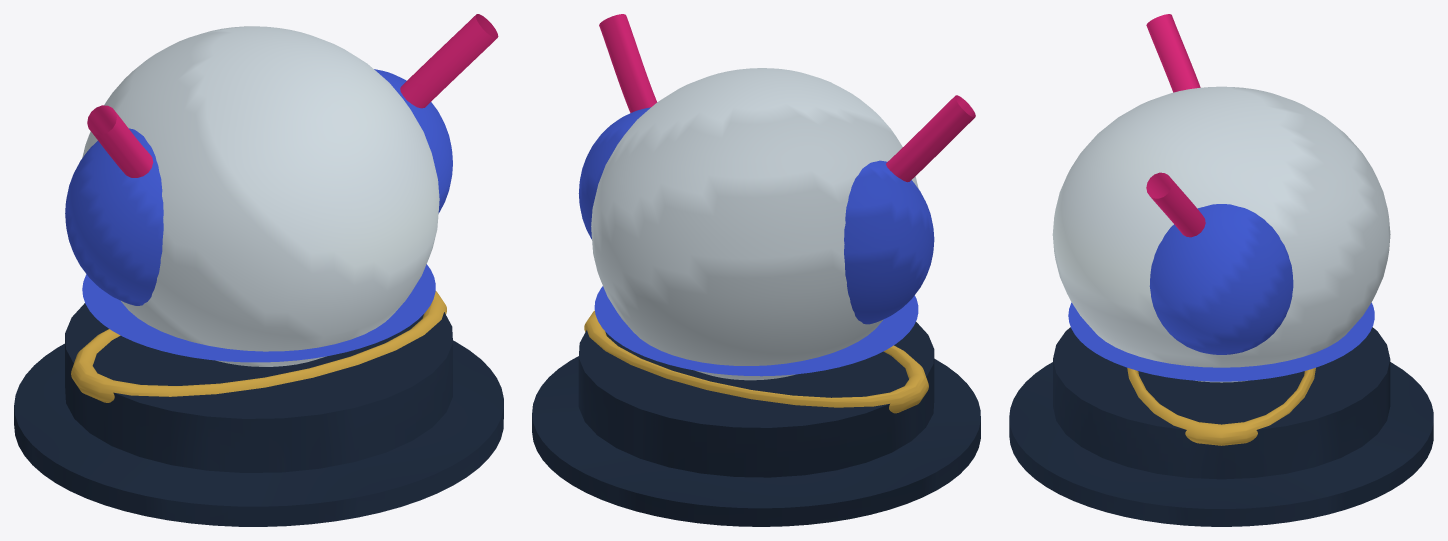
File: 0179_人体图鉴_磨牙.glb
3 views of the same model, side by side, from view 1: azimuth 30°, elevation 25°; view 2: azimuth 150°, elevation 25°; view 3: azimuth 270°, elevation 25° (orthographic). The views are drawn at different scales.
Parts seen in each view (by area): view 1: card_0179; view 2: card_0179; view 3: card_0179.
Part boxes in pixels (left/top/right/bottom): card_0179: left=14, top=14, right=503, bottom=526; card_0179: left=532, top=14, right=980, bottom=526; card_0179: left=1009, top=14, right=1433, bottom=526.
Bounding box in the file's own units: 1.15 × 1 × 1.13.
